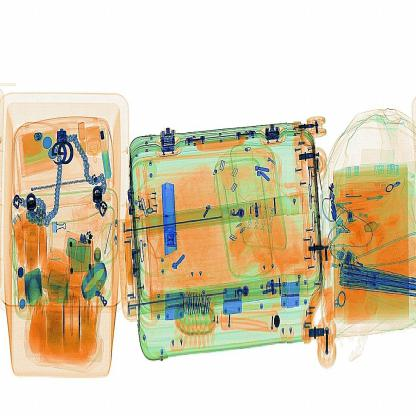pliers: (158, 175, 188, 269)
